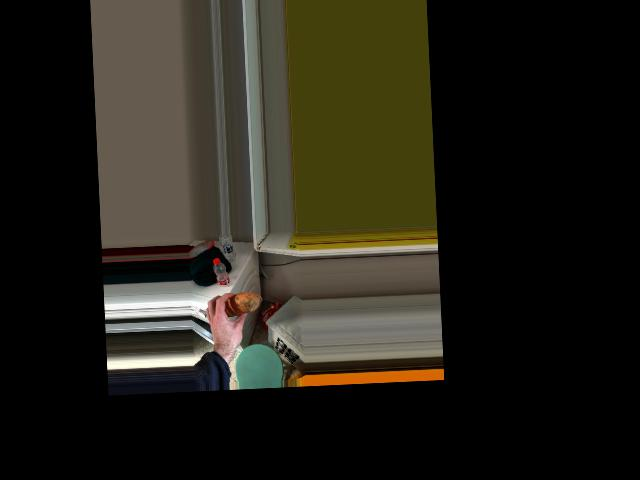sweet_potato: (220, 290, 253, 322)
